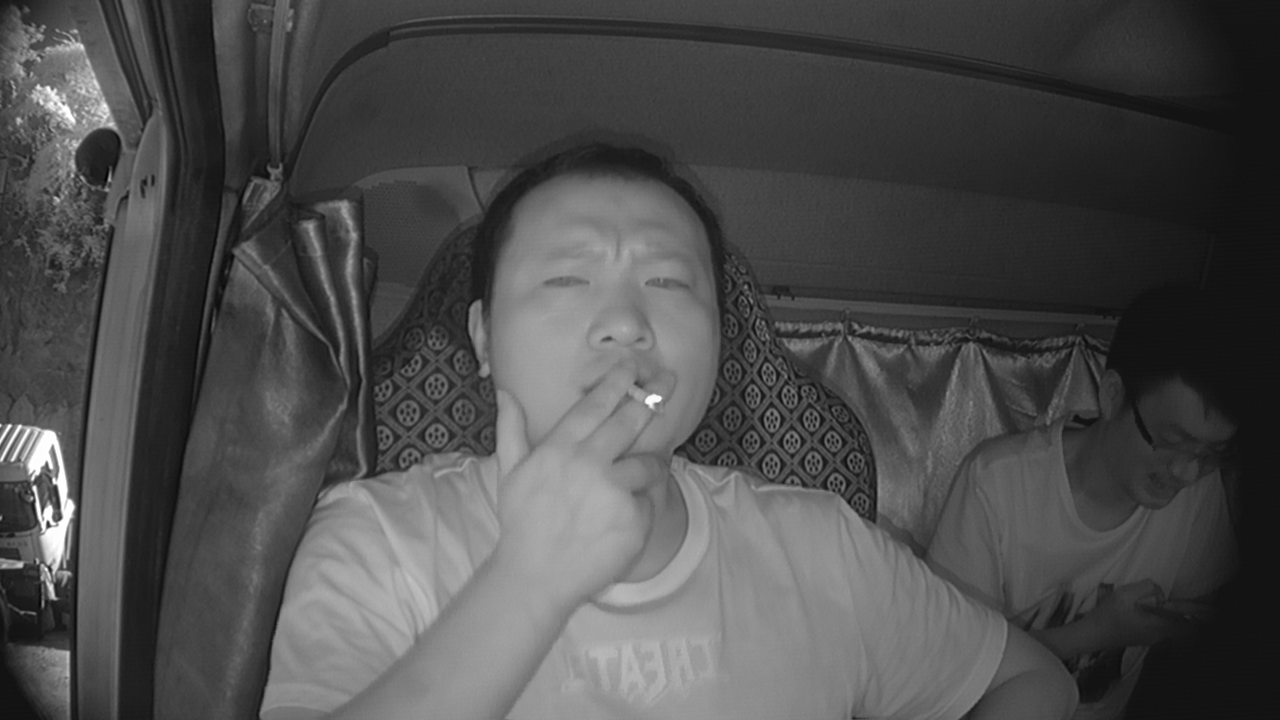hand: (540, 369, 686, 573)
